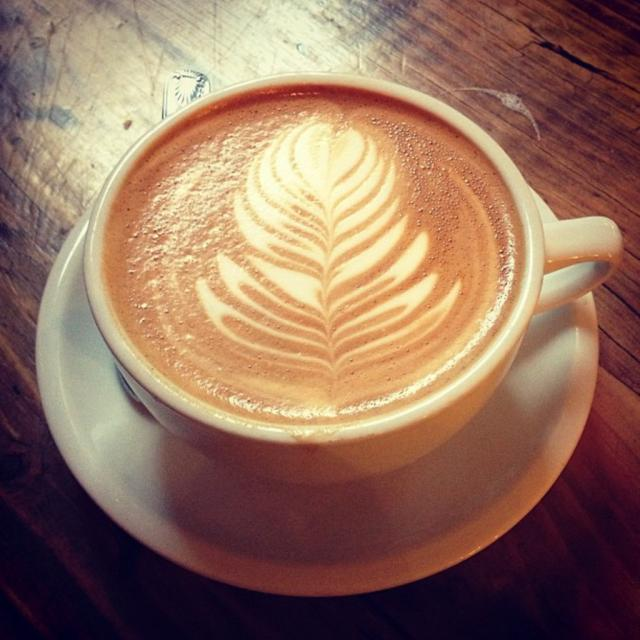latte: (84, 70, 546, 446)
